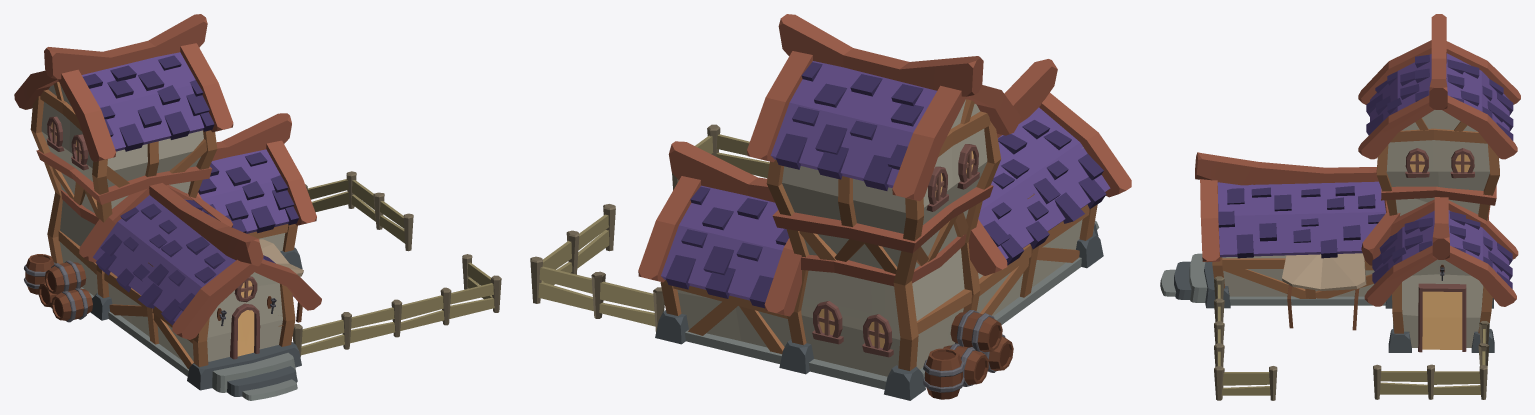
The model's file is Warehouse.fbx.
3 views of the same model, side by side, from view 1: azimuth 30°, elevation 25°; view 2: azimuth 150°, elevation 25°; view 3: azimuth 270°, elevation 25° (orthographic). The views are drawn at different scales.
Visible parts, largest first — view 1: Building_Town_Hall_Purple.001; view 2: Building_Town_Hall_Purple.001; view 3: Building_Town_Hall_Purple.001.
Part boxes in pixels (bbox=[...]): Building_Town_Hall_Purple.001: bbox=[14, 14, 501, 400]; Building_Town_Hall_Purple.001: bbox=[530, 14, 1131, 400]; Building_Town_Hall_Purple.001: bbox=[1160, 14, 1520, 400].
Bounding box in the file's own units: 320 × 235 × 317.
